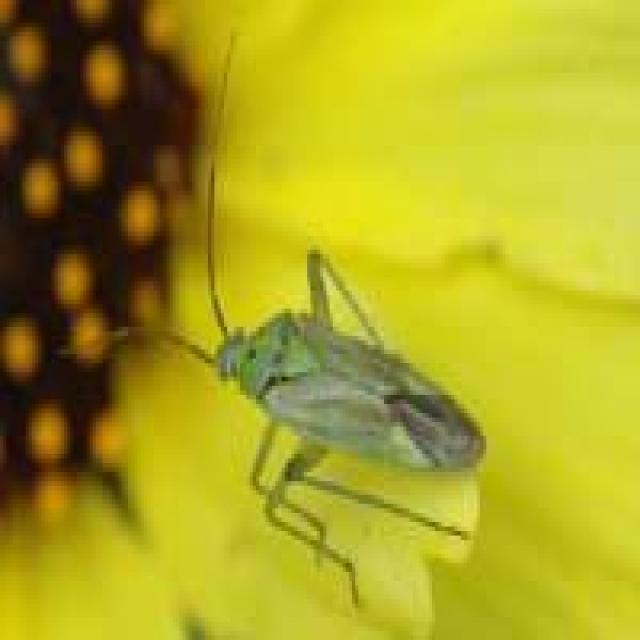Miridae-Adult-: (68, 31, 486, 591)
